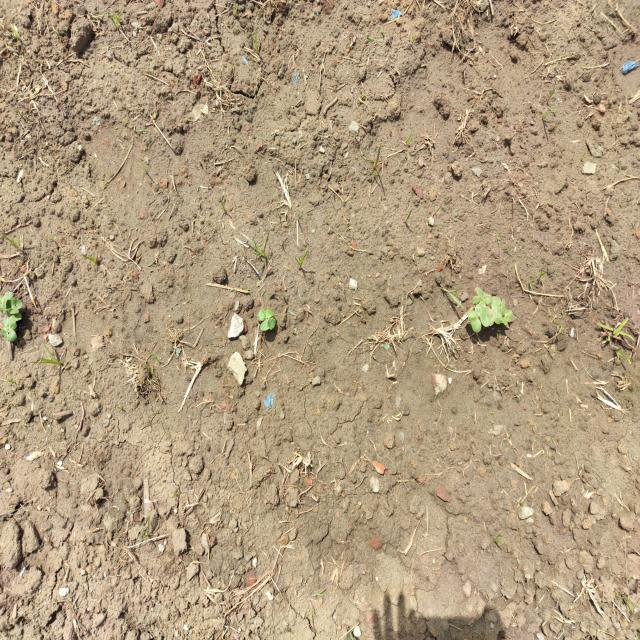seedling: (475, 304, 490, 327), (468, 310, 482, 333), (477, 288, 493, 304), (260, 316, 276, 331), (491, 304, 502, 325), (1, 327, 17, 341), (501, 308, 513, 326), (2, 292, 12, 313), (484, 306, 494, 326), (258, 309, 274, 321), (6, 299, 22, 309), (4, 318, 17, 330), (472, 296, 485, 308), (6, 308, 19, 317), (491, 296, 501, 307), (10, 313, 22, 322), (500, 299, 506, 315)
